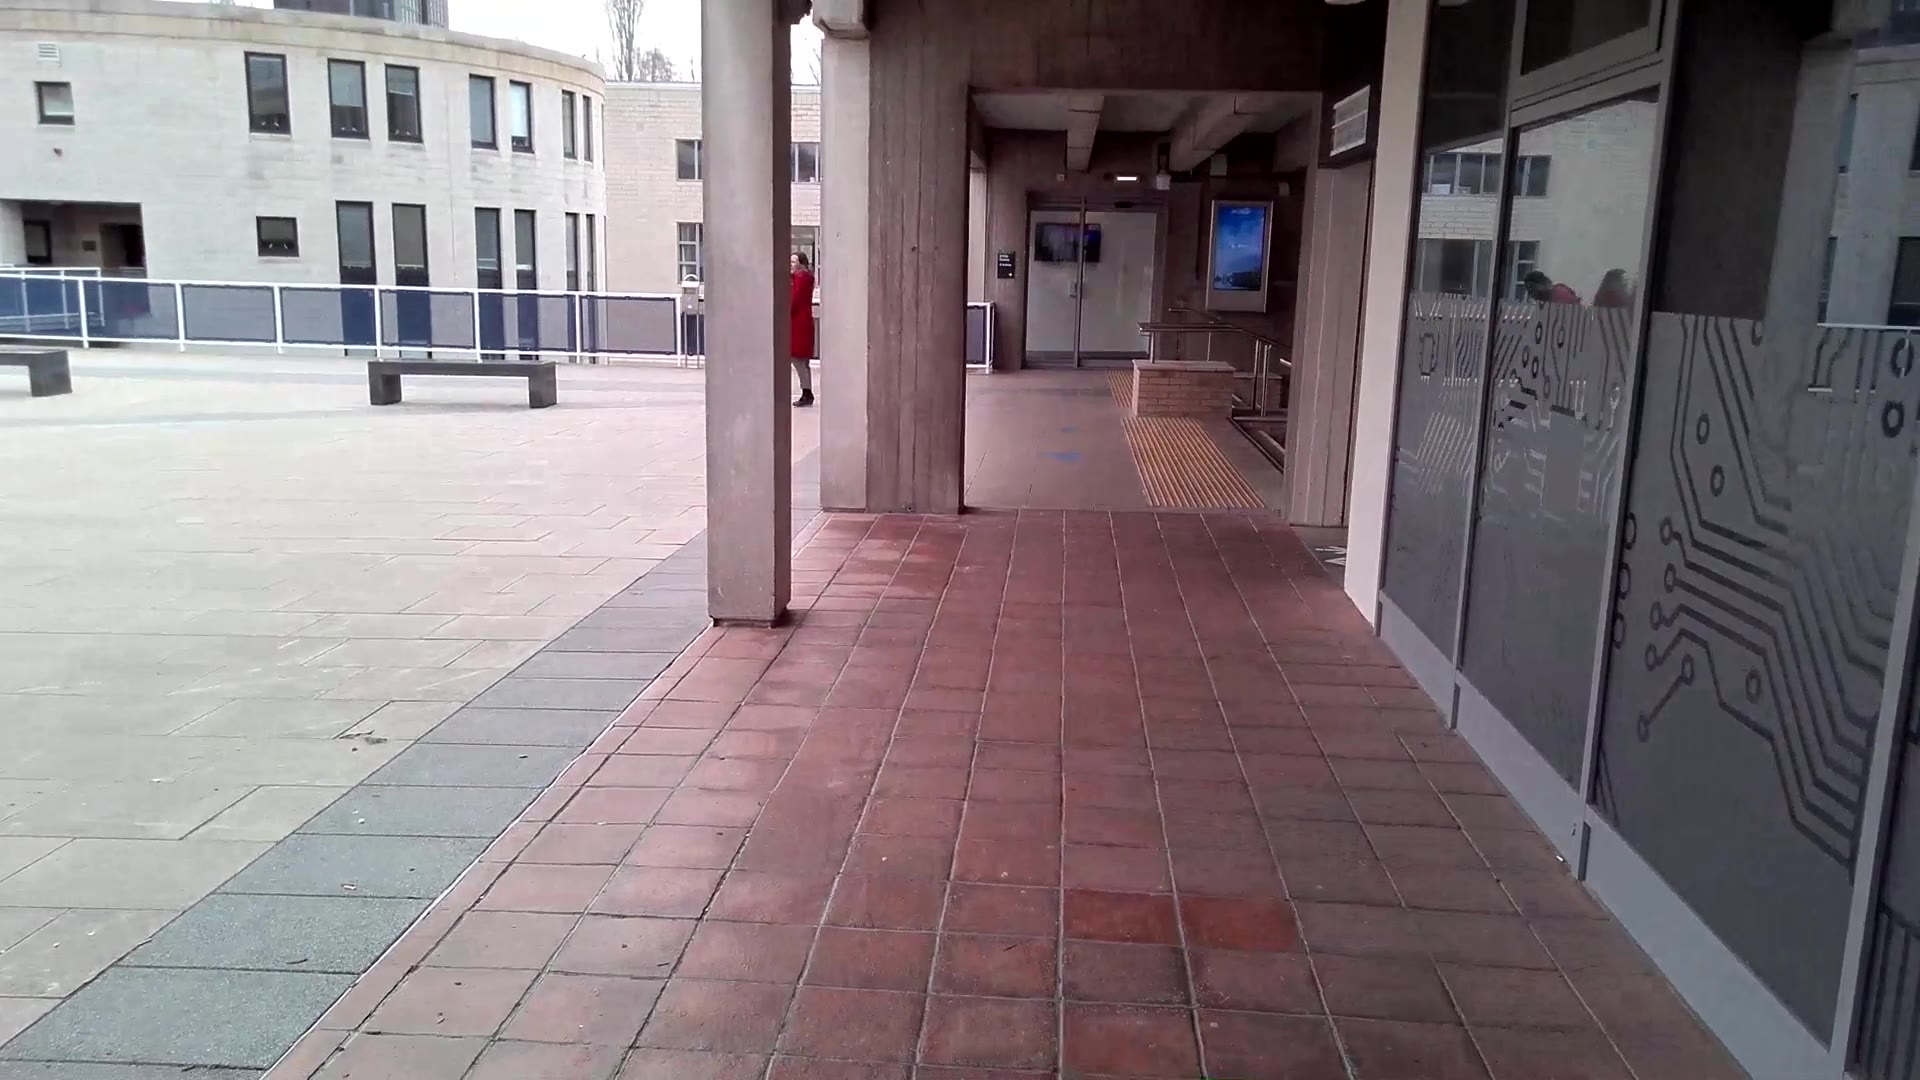Bench: (363, 349, 574, 419)
